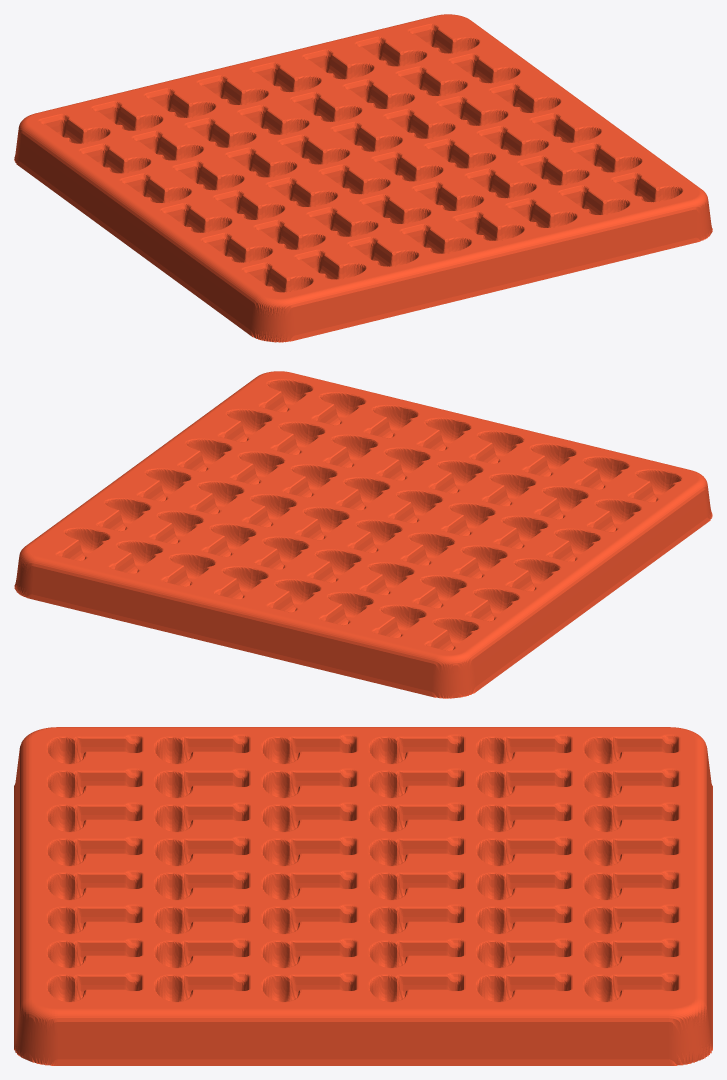
File: mold.glb
3 renders of one model, top to bottom at view 1: azimuth 30°, elevation 25°; view 2: azimuth 150°, elevation 25°; view 3: azimuth 270°, elevation 25°, orthographic. The views are drawn at different scales.
Parts seen in each view (by area): view 1: geometry_0; view 2: geometry_0; view 3: geometry_0.
Boxes of the visible parts, left/top/right/bottom form: geometry_0: left=14, top=14, right=712, bottom=342; geometry_0: left=14, top=371, right=712, bottom=698; geometry_0: left=14, top=727, right=712, bottom=1065.
Size of the model in its own units: 0.1443 by 0.0113 by 0.1443.
